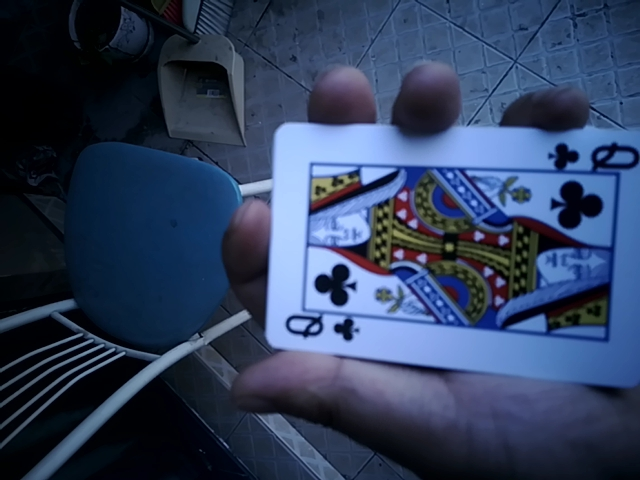mh q: (249, 116, 629, 382)
